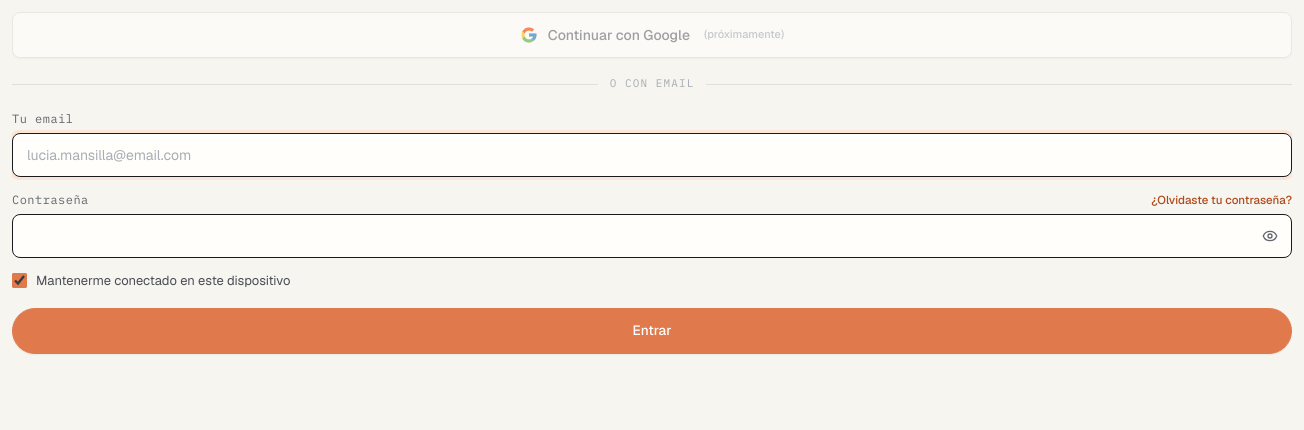
Test: SignInForm › renderiza alert con el mensaje cuando el action devuelve status: error
In the field labelled "Tu email": (652, 155) [12,133,1292,177], type "lucia@test.com"
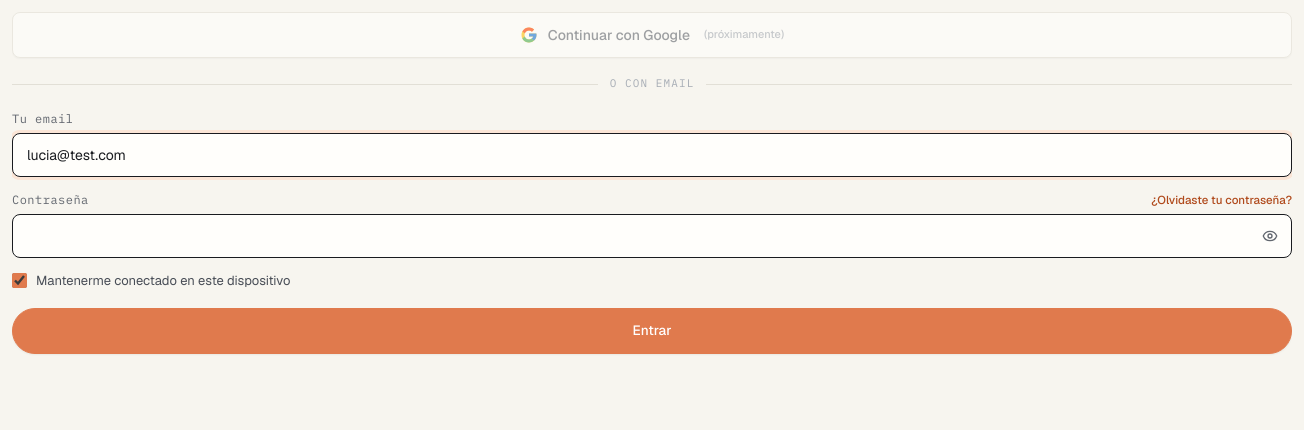
In the password field labelled "Contraseña": (652, 236) [12,214,1292,258], type "doce-chars-1"
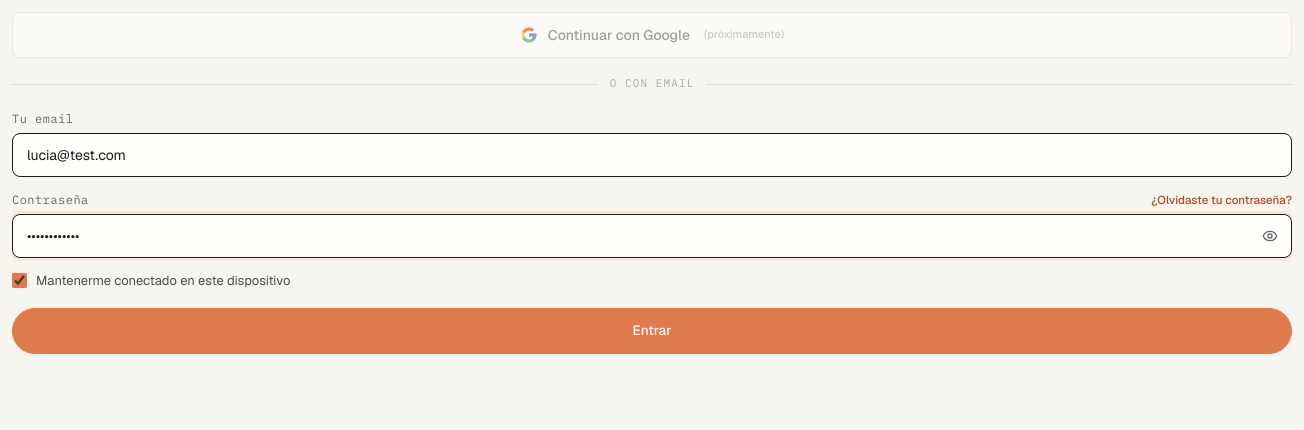
Click the button "Entrar": (652, 331) [12,308,1292,354]
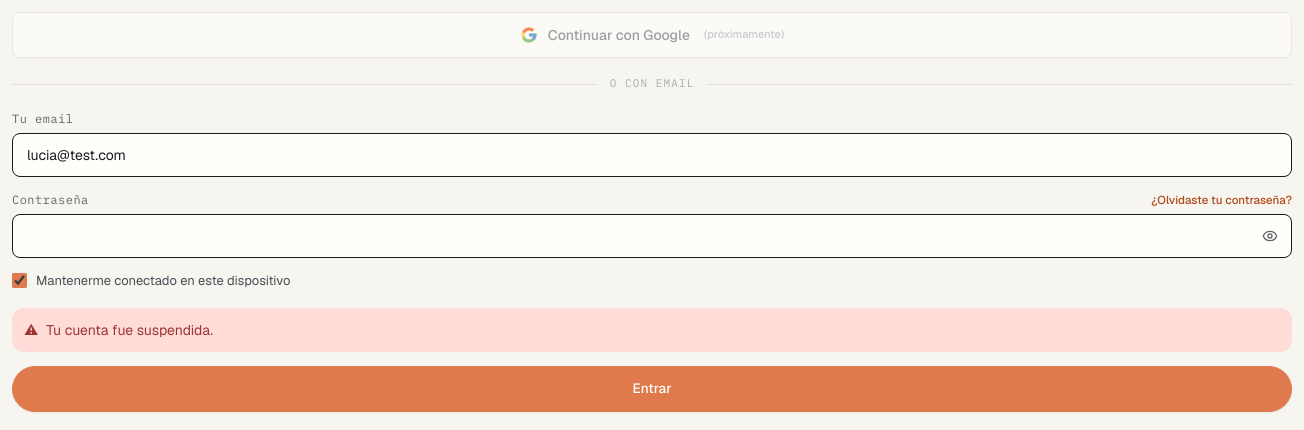
Now the message shows "Tu cuenta fue suspendida", box [46,321,213,339]
